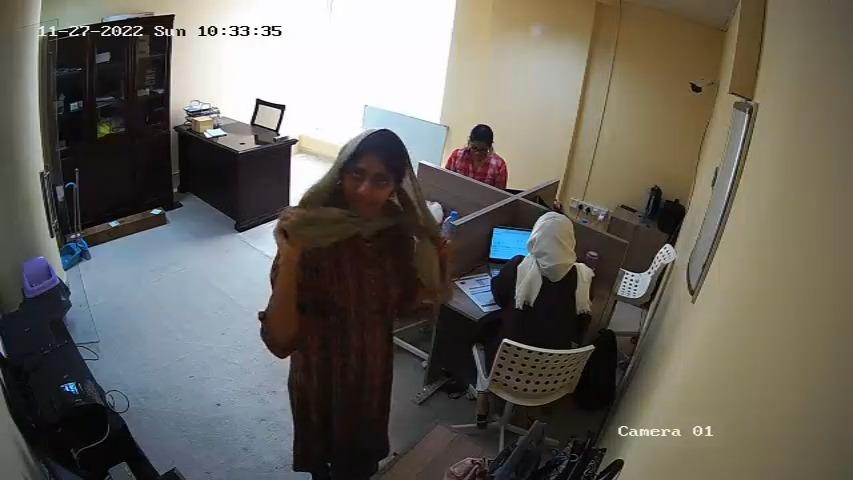no_apron: (308, 228, 392, 446)
